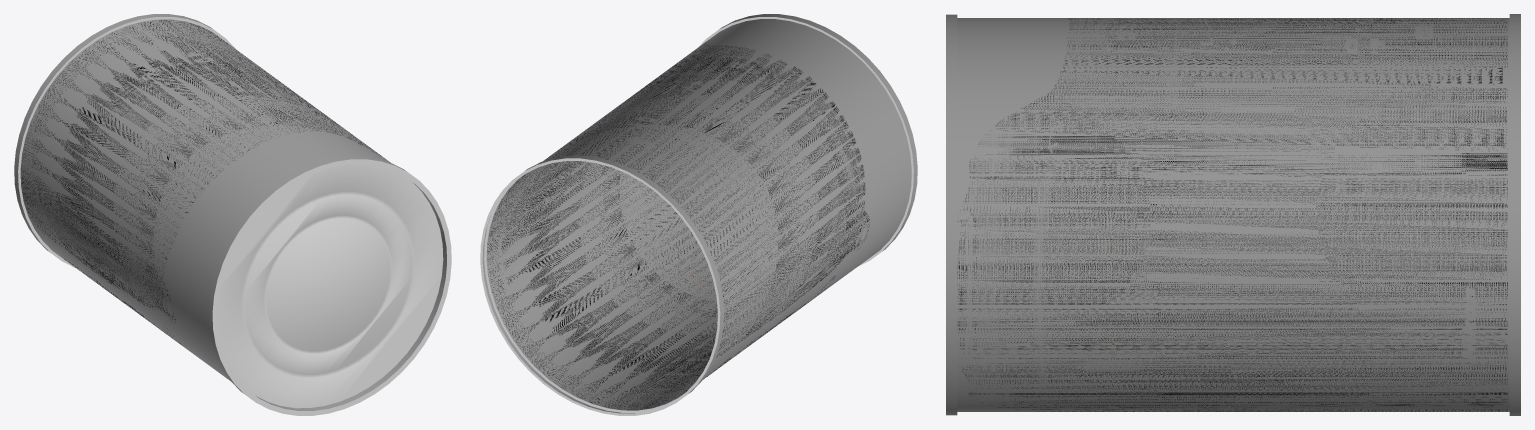
Rendered from model_align.obj.
3 views of the same model, side by side, from view 1: azimuth 30°, elevation 25°; view 2: azimuth 150°, elevation 25°; view 3: azimuth 270°, elevation 25° (orthographic). The views are drawn at different scales.
Parts seen in each view (by area): view 1: mesh1_mesh1-geometry; view 2: mesh1_mesh1-geometry; view 3: mesh1_mesh1-geometry.
Boxes of the visible parts, box(x1,y1,x2,y2) form: mesh1_mesh1-geometry: box(14, 14, 451, 415); mesh1_mesh1-geometry: box(480, 14, 917, 415); mesh1_mesh1-geometry: box(946, 14, 1520, 415).
Bounding box in the file's own units: 0.0911 × 0.0911 × 0.1301.
